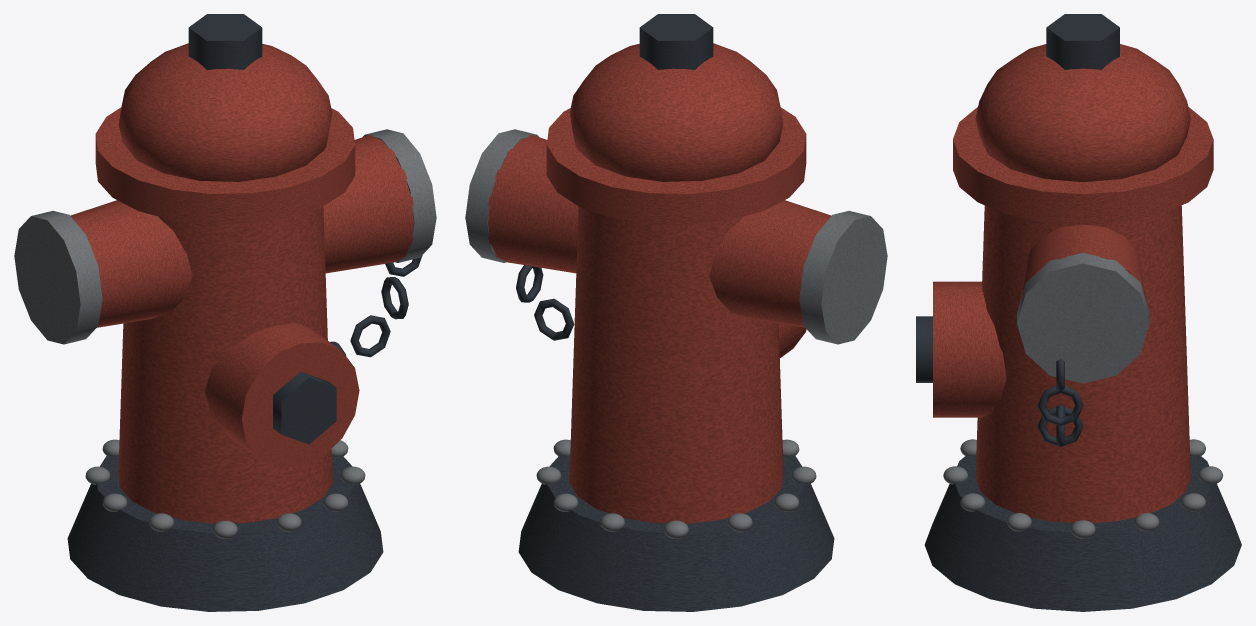
File: hydrant.glb
The picture shows the model from 3 angles, left to right: view 1: azimuth 30°, elevation 25°; view 2: azimuth 150°, elevation 25°; view 3: azimuth 270°, elevation 25°; orthographic projection.
Parts seen in each view (by area): view 1: cast-iron-hydrant; view 2: cast-iron-hydrant; view 3: cast-iron-hydrant.
Part boxes in pixels (left/top/right/bottom): cast-iron-hydrant: left=14, top=14, right=436, bottom=611; cast-iron-hydrant: left=465, top=14, right=887, bottom=611; cast-iron-hydrant: left=916, top=14, right=1241, bottom=611.
Bounding box in the file's own units: 0.7435 × 1.01 × 0.575.
3 materials, 3 textured.
